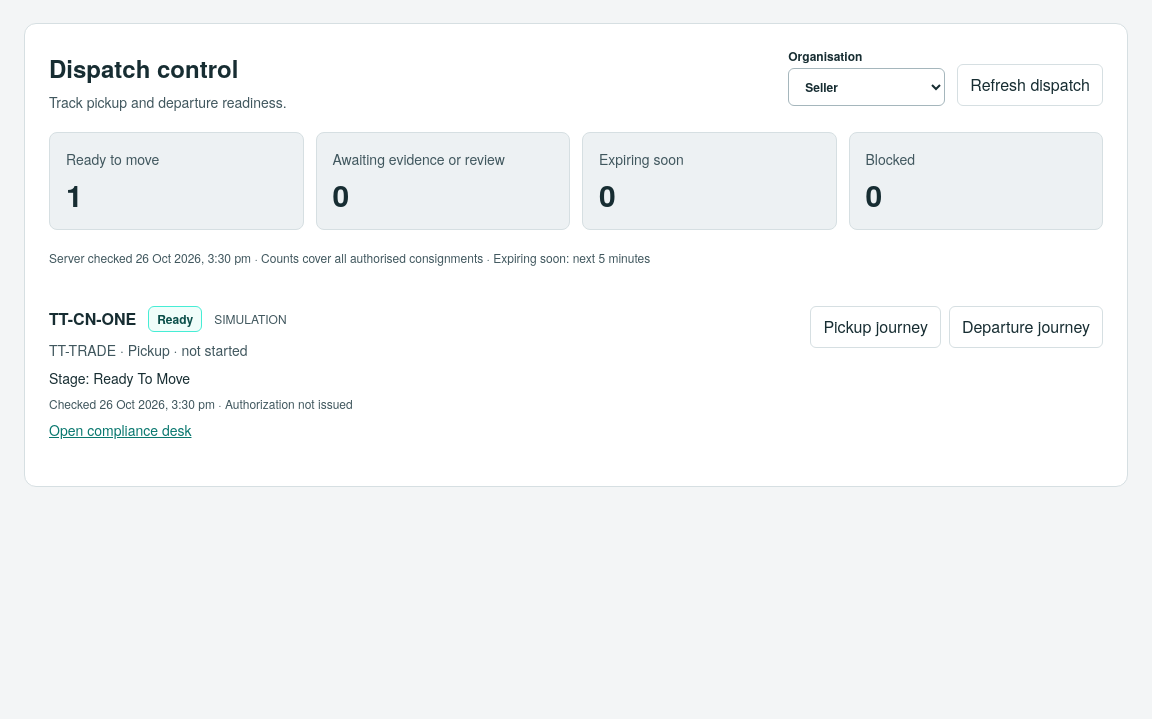
Test: shows actual incremental rule reuse only for an incremental evaluation
The image size is (1152, 719).
Expected: the heading "TT-CN-ONE" is shown, x1=49 y1=307 x2=136 y2=331
Step 1. Click the button with aria-label "Pickup journey for TT-CN-ONE" → (876, 327), box x1=810 y1=306 x2=941 y2=348
(page scrolled)
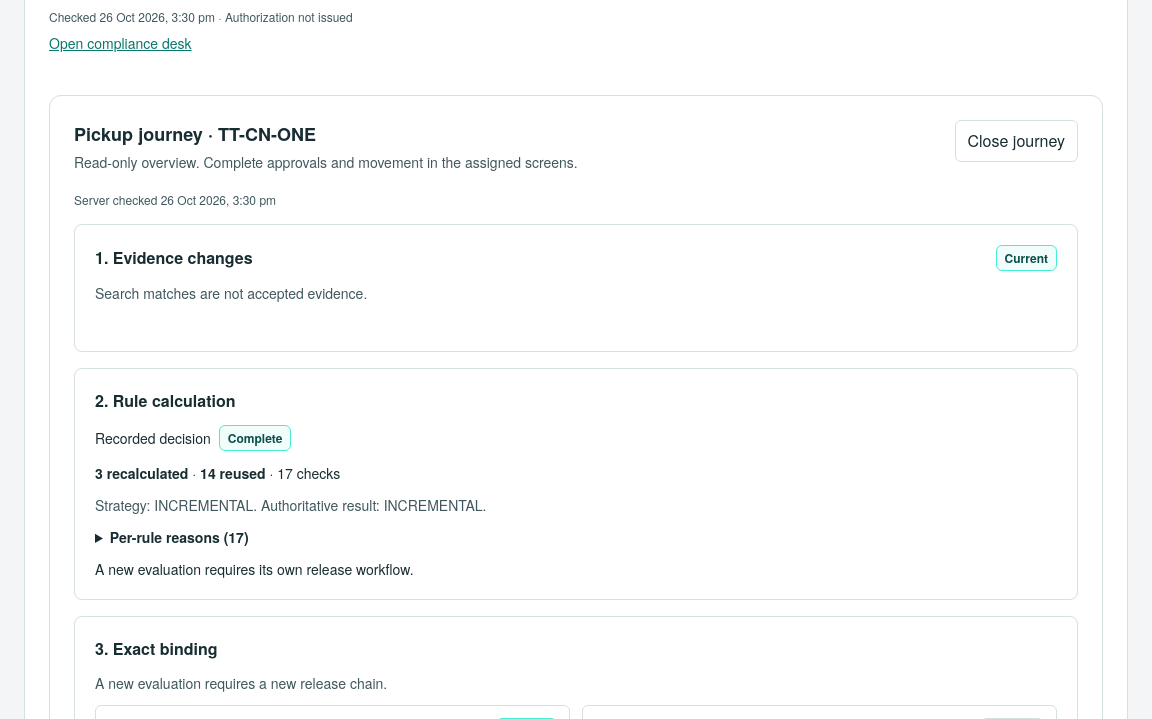
Now the text "14 reused" is shown, box x1=200 y1=463 x2=266 y2=483
